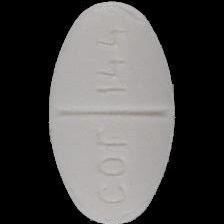53808-0210: (0, 0, 224, 224)
